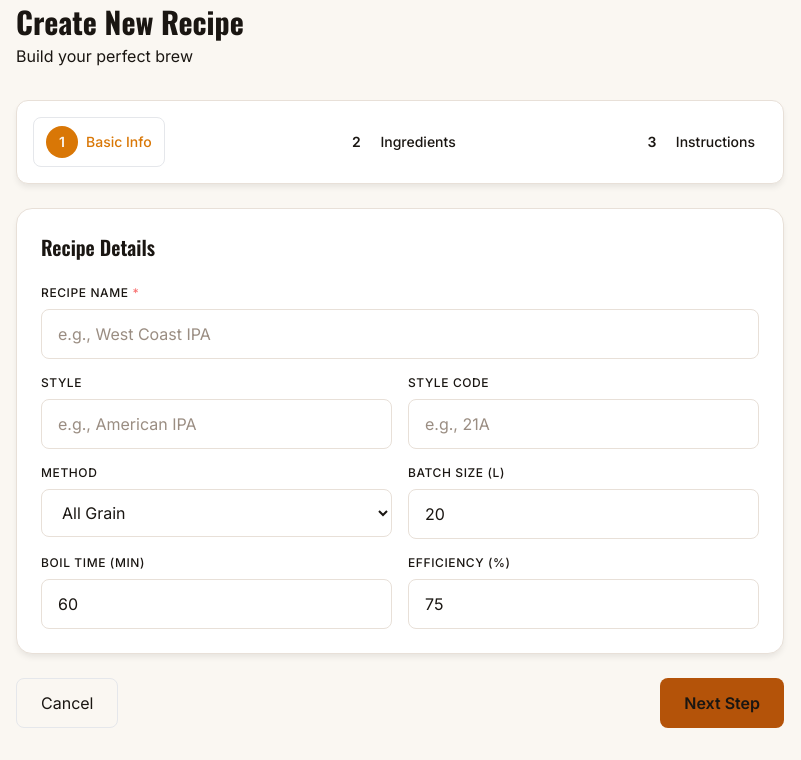
RecipeForm Page › Dynamic Ingredients › adds a hop row when clicking add hop
(page scrolled)
Click the button "Next Step" at (722, 703), box [660,678,784,728]
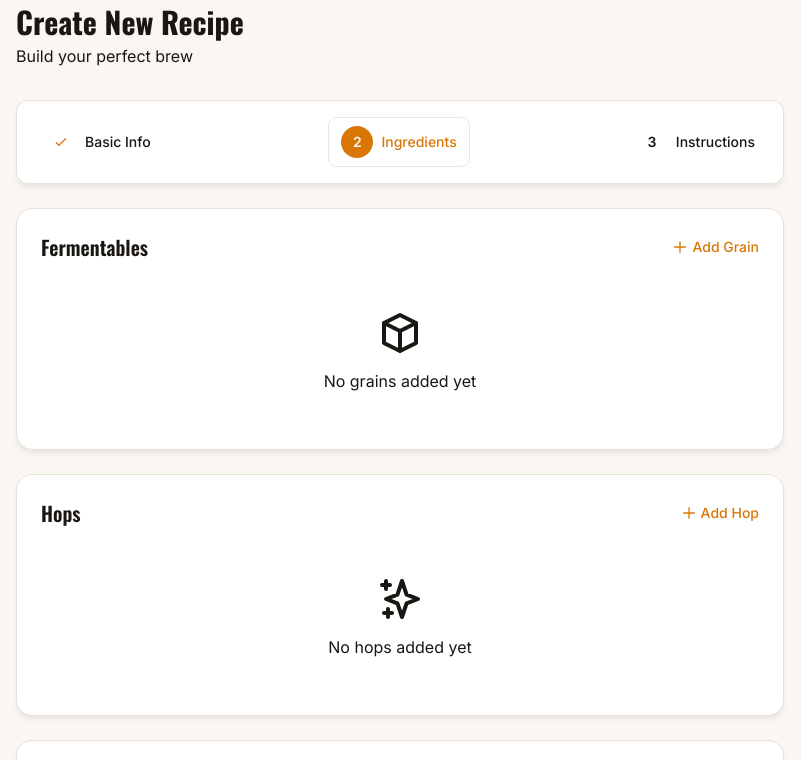
Click the button "Add Hop" at (720, 513), box [681,503,759,523]
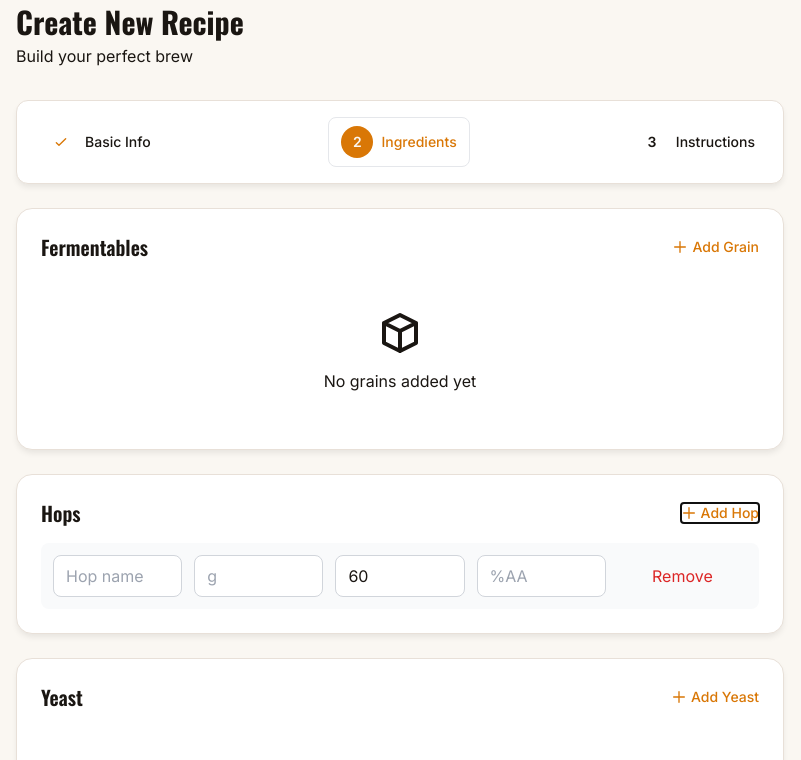
Expected: the field labelled "Hop name" is shown, [53,555,182,597]
